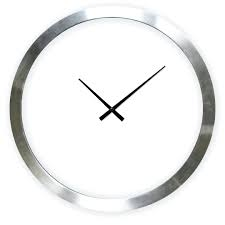clock: (11, 8, 216, 212)
